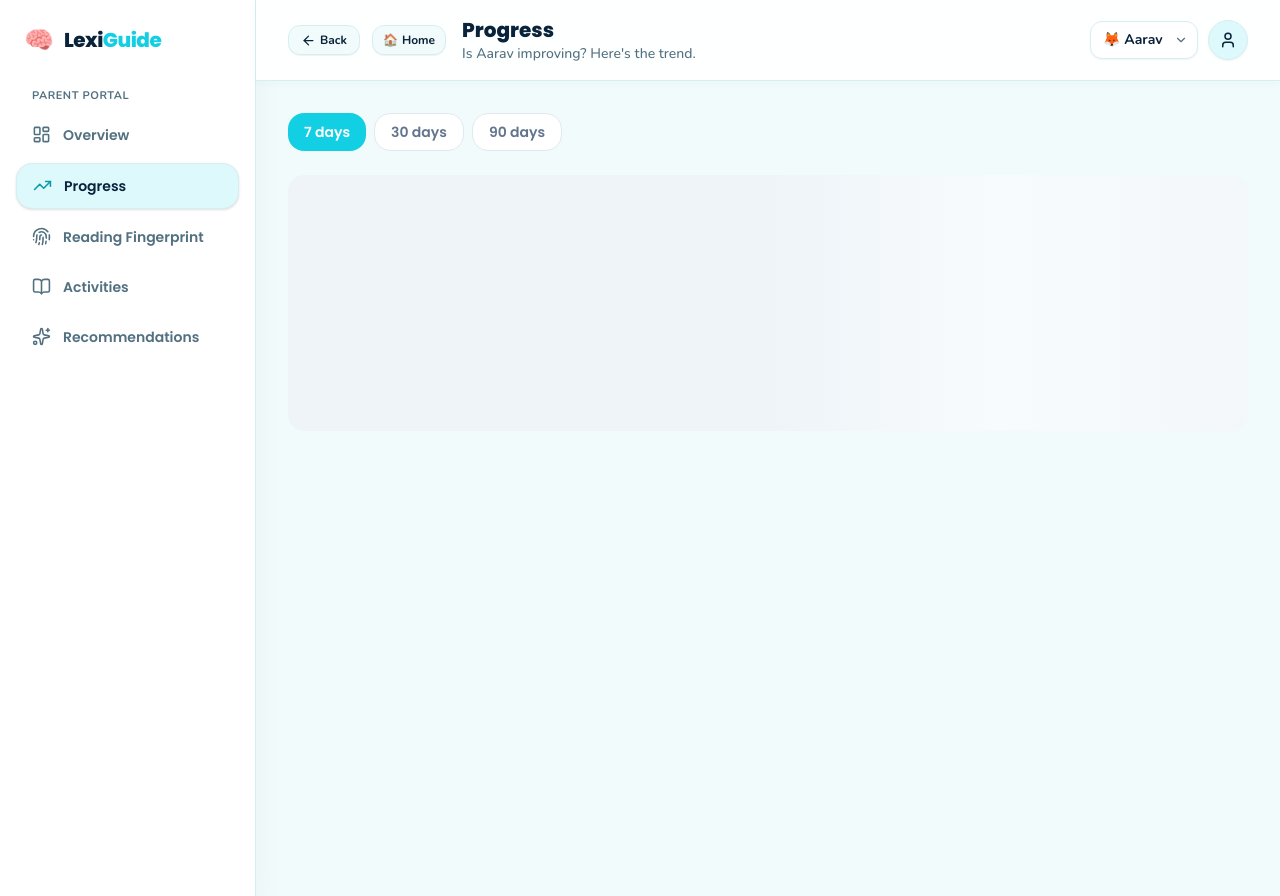
Test case: Step 10: Parent & Teacher Analytics + Reports › 7. Parent Progress handles 0 sample size with honest empty message
Click the button "90 days" at (517,132), box [472,113,562,151]
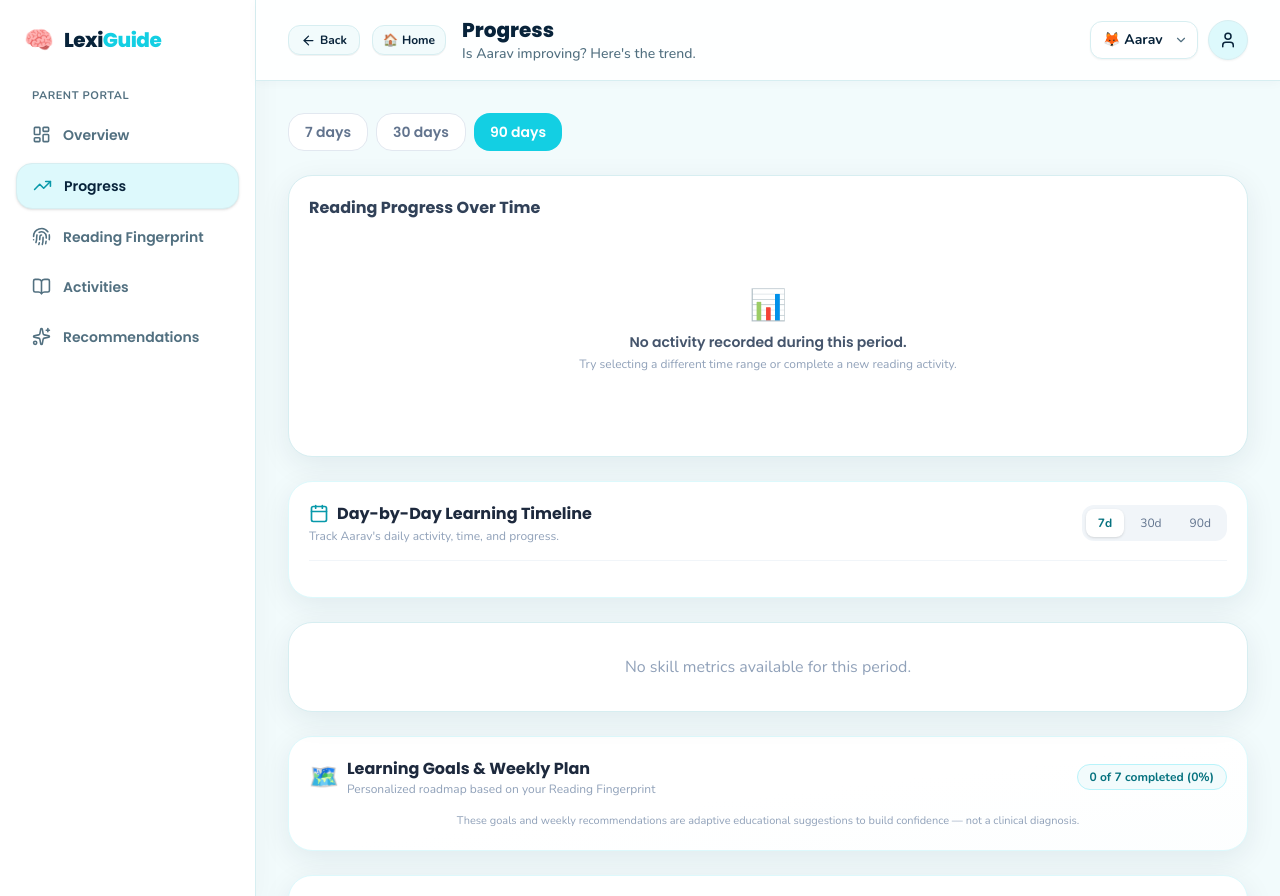
expect the text "No activity recorded during this period." is shown: met, box [629,332,907,352]
